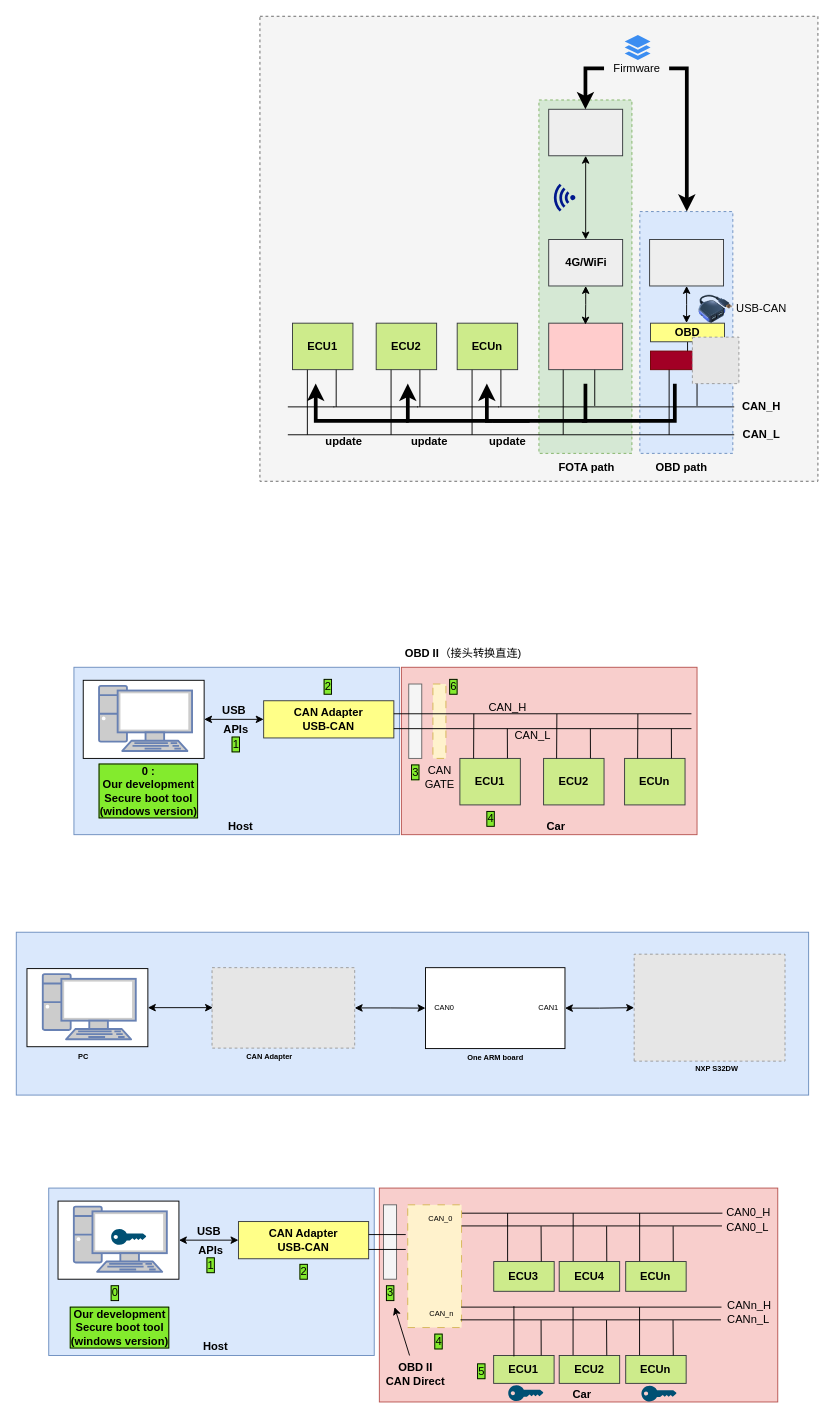
Image size: 834x1425. Some labels were removed from this diagram. Grey dashed boxes stand in for pictures. The shapes that lost their labels are listed below. From the top down, each one's box as (x1, y1, x2, y2) in pixels, then its label:
(548, 108, 623, 156): Clients
(649, 239, 724, 286): HOST Client （GUI tool）
(548, 322, 623, 370): Layerscape
(650, 350, 724, 370): Services
(15, 931, 809, 1095): Platform Arch
(425, 967, 565, 1049): GateWay Using Linux
(407, 1204, 462, 1328): An ECU as Gateway
